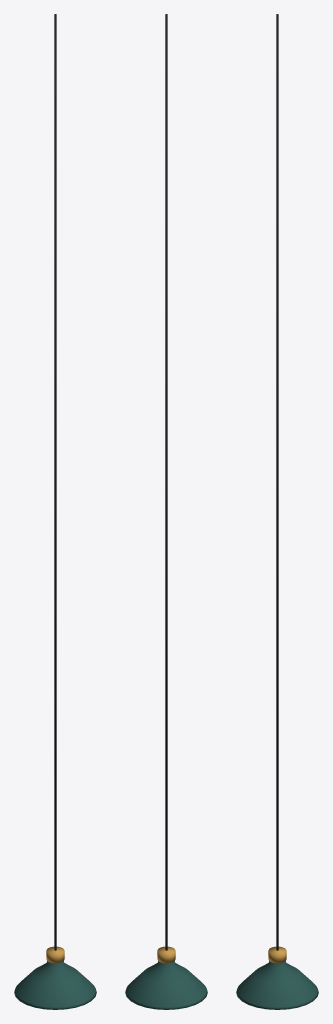
The model's file is pendant.glb.
The picture shows the model from 3 angles, left to right: view 1: azimuth 90°, elevation 25°; view 2: azimuth 150°, elevation 25°; view 3: azimuth 270°, elevation 25°; orthographic projection.
Parts seen in each view (by area): view 1: pendant; view 2: pendant; view 3: pendant.
Boxes of the visible parts, box(x1,y1,x2,y2) form: pendant: box(14, 14, 96, 1009); pendant: box(125, 14, 207, 1009); pendant: box(236, 14, 318, 1009).
Size of the model in its own units: 3.2 by 41.85 by 3.2.
